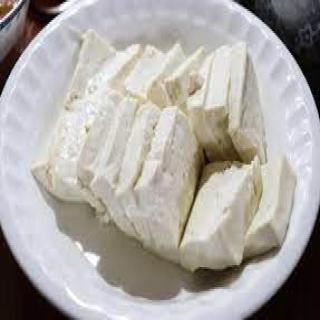Tahu: (37, 28, 299, 276)
